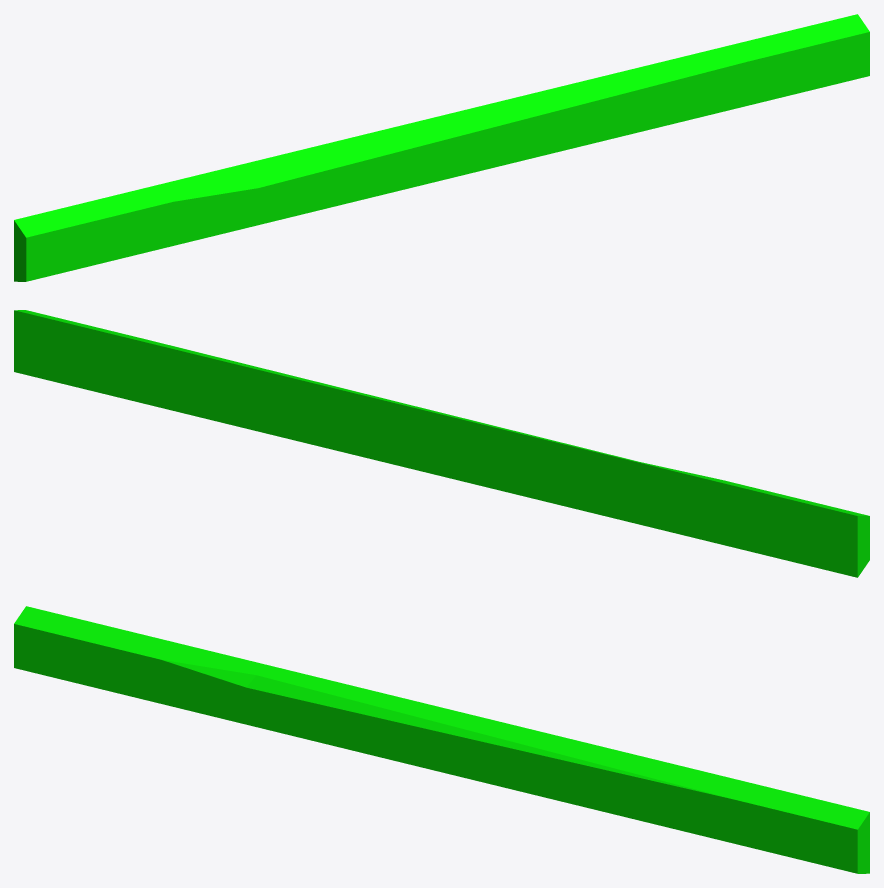
File: SM_Wall_Deco_Wood_Line_2m.fbx
The picture shows the model from 3 angles, top to bottom: view 1: azimuth 30°, elevation 25°; view 2: azimuth 150°, elevation 25°; view 3: azimuth 330°, elevation 25°; orthographic projection.
Parts seen in each view (by area): view 1: wall-deco-wood-line-2m; view 2: wall-deco-wood-line-2m; view 3: wall-deco-wood-line-2m.
Boxes of the visible parts, left/top/right/bottom form: wall-deco-wood-line-2m: left=14, top=14, right=869, bottom=281; wall-deco-wood-line-2m: left=14, top=310, right=869, bottom=577; wall-deco-wood-line-2m: left=14, top=606, right=869, bottom=873.
Bounding box in the file's own units: 2 × 0.14 × 0.05.
